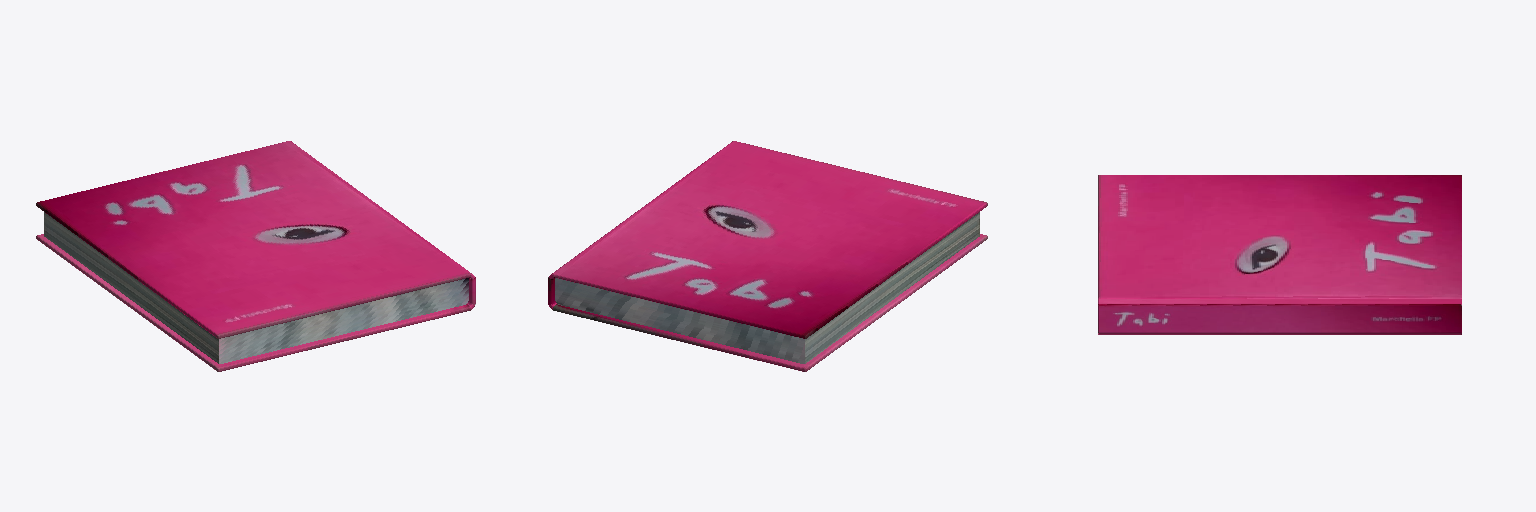
3 renders of one model, left to right at view 1: azimuth 30°, elevation 25°; view 2: azimuth 150°, elevation 25°; view 3: azimuth 270°, elevation 25°, orthographic.
Visible parts, largest first — view 1: Cube.001, Cube; view 2: Cube.001, Cube; view 3: Cube.001.
Boxes of the visible parts, x1=… form: Cube.001: x1=36, y1=141, x2=475, y2=371; Cube: x1=44, y1=212, x2=468, y2=363; Cube.001: x1=548, y1=141, x2=987, y2=371; Cube: x1=555, y1=212, x2=979, y2=363; Cube.001: x1=1098, y1=175, x2=1461, y2=334.
Bounding box in the file's own units: 0.18 × 0.025 × 0.22.
1 materials, 1 textured.